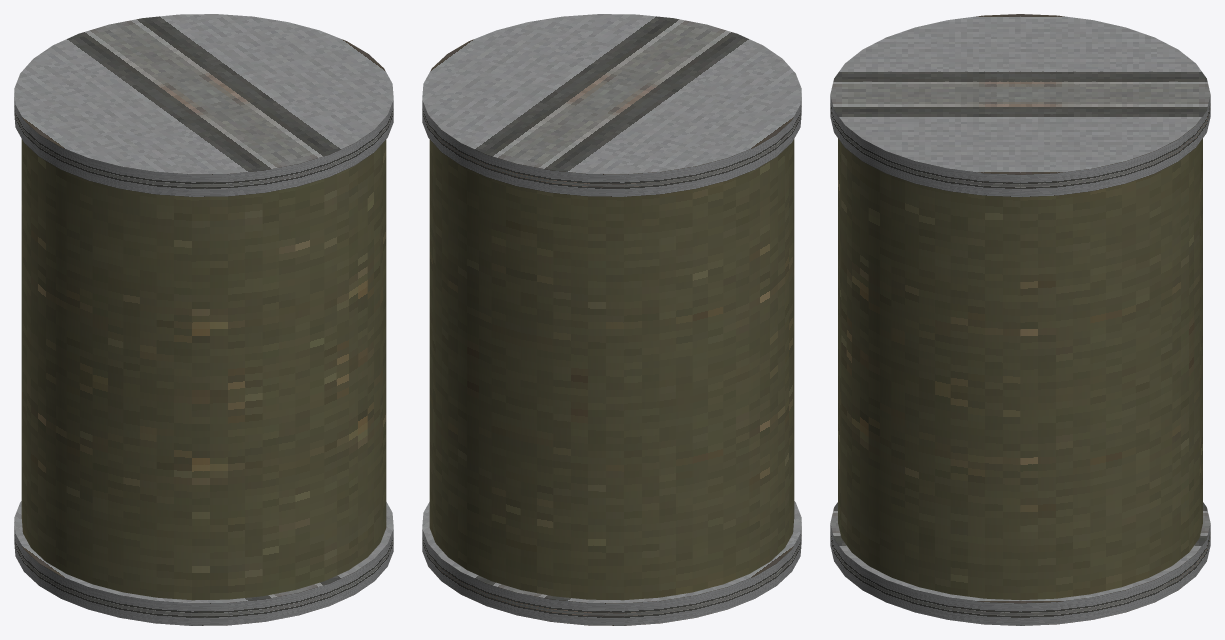
File: food-can.glb
3 views of the same model, side by side, from view 1: azimuth 30°, elevation 25°; view 2: azimuth 150°, elevation 25°; view 3: azimuth 270°, elevation 25° (orthographic).
Visible parts, largest first — view 1: shell, rim (×2); view 2: shell, rim (×2); view 3: shell, rim (×2).
Part boxes in pixels (x1,y1,x2,y2): shell: [21, 139, 386, 600]; rim (×2): [14, 14, 393, 625]; shell: [429, 139, 794, 600]; rim (×2): [422, 14, 801, 625]; shell: [838, 138, 1202, 600]; rim (×2): [830, 14, 1210, 625].
Size of the model in its own units: 0.084 by 0.11 by 0.084.
2 materials, 2 textured.
